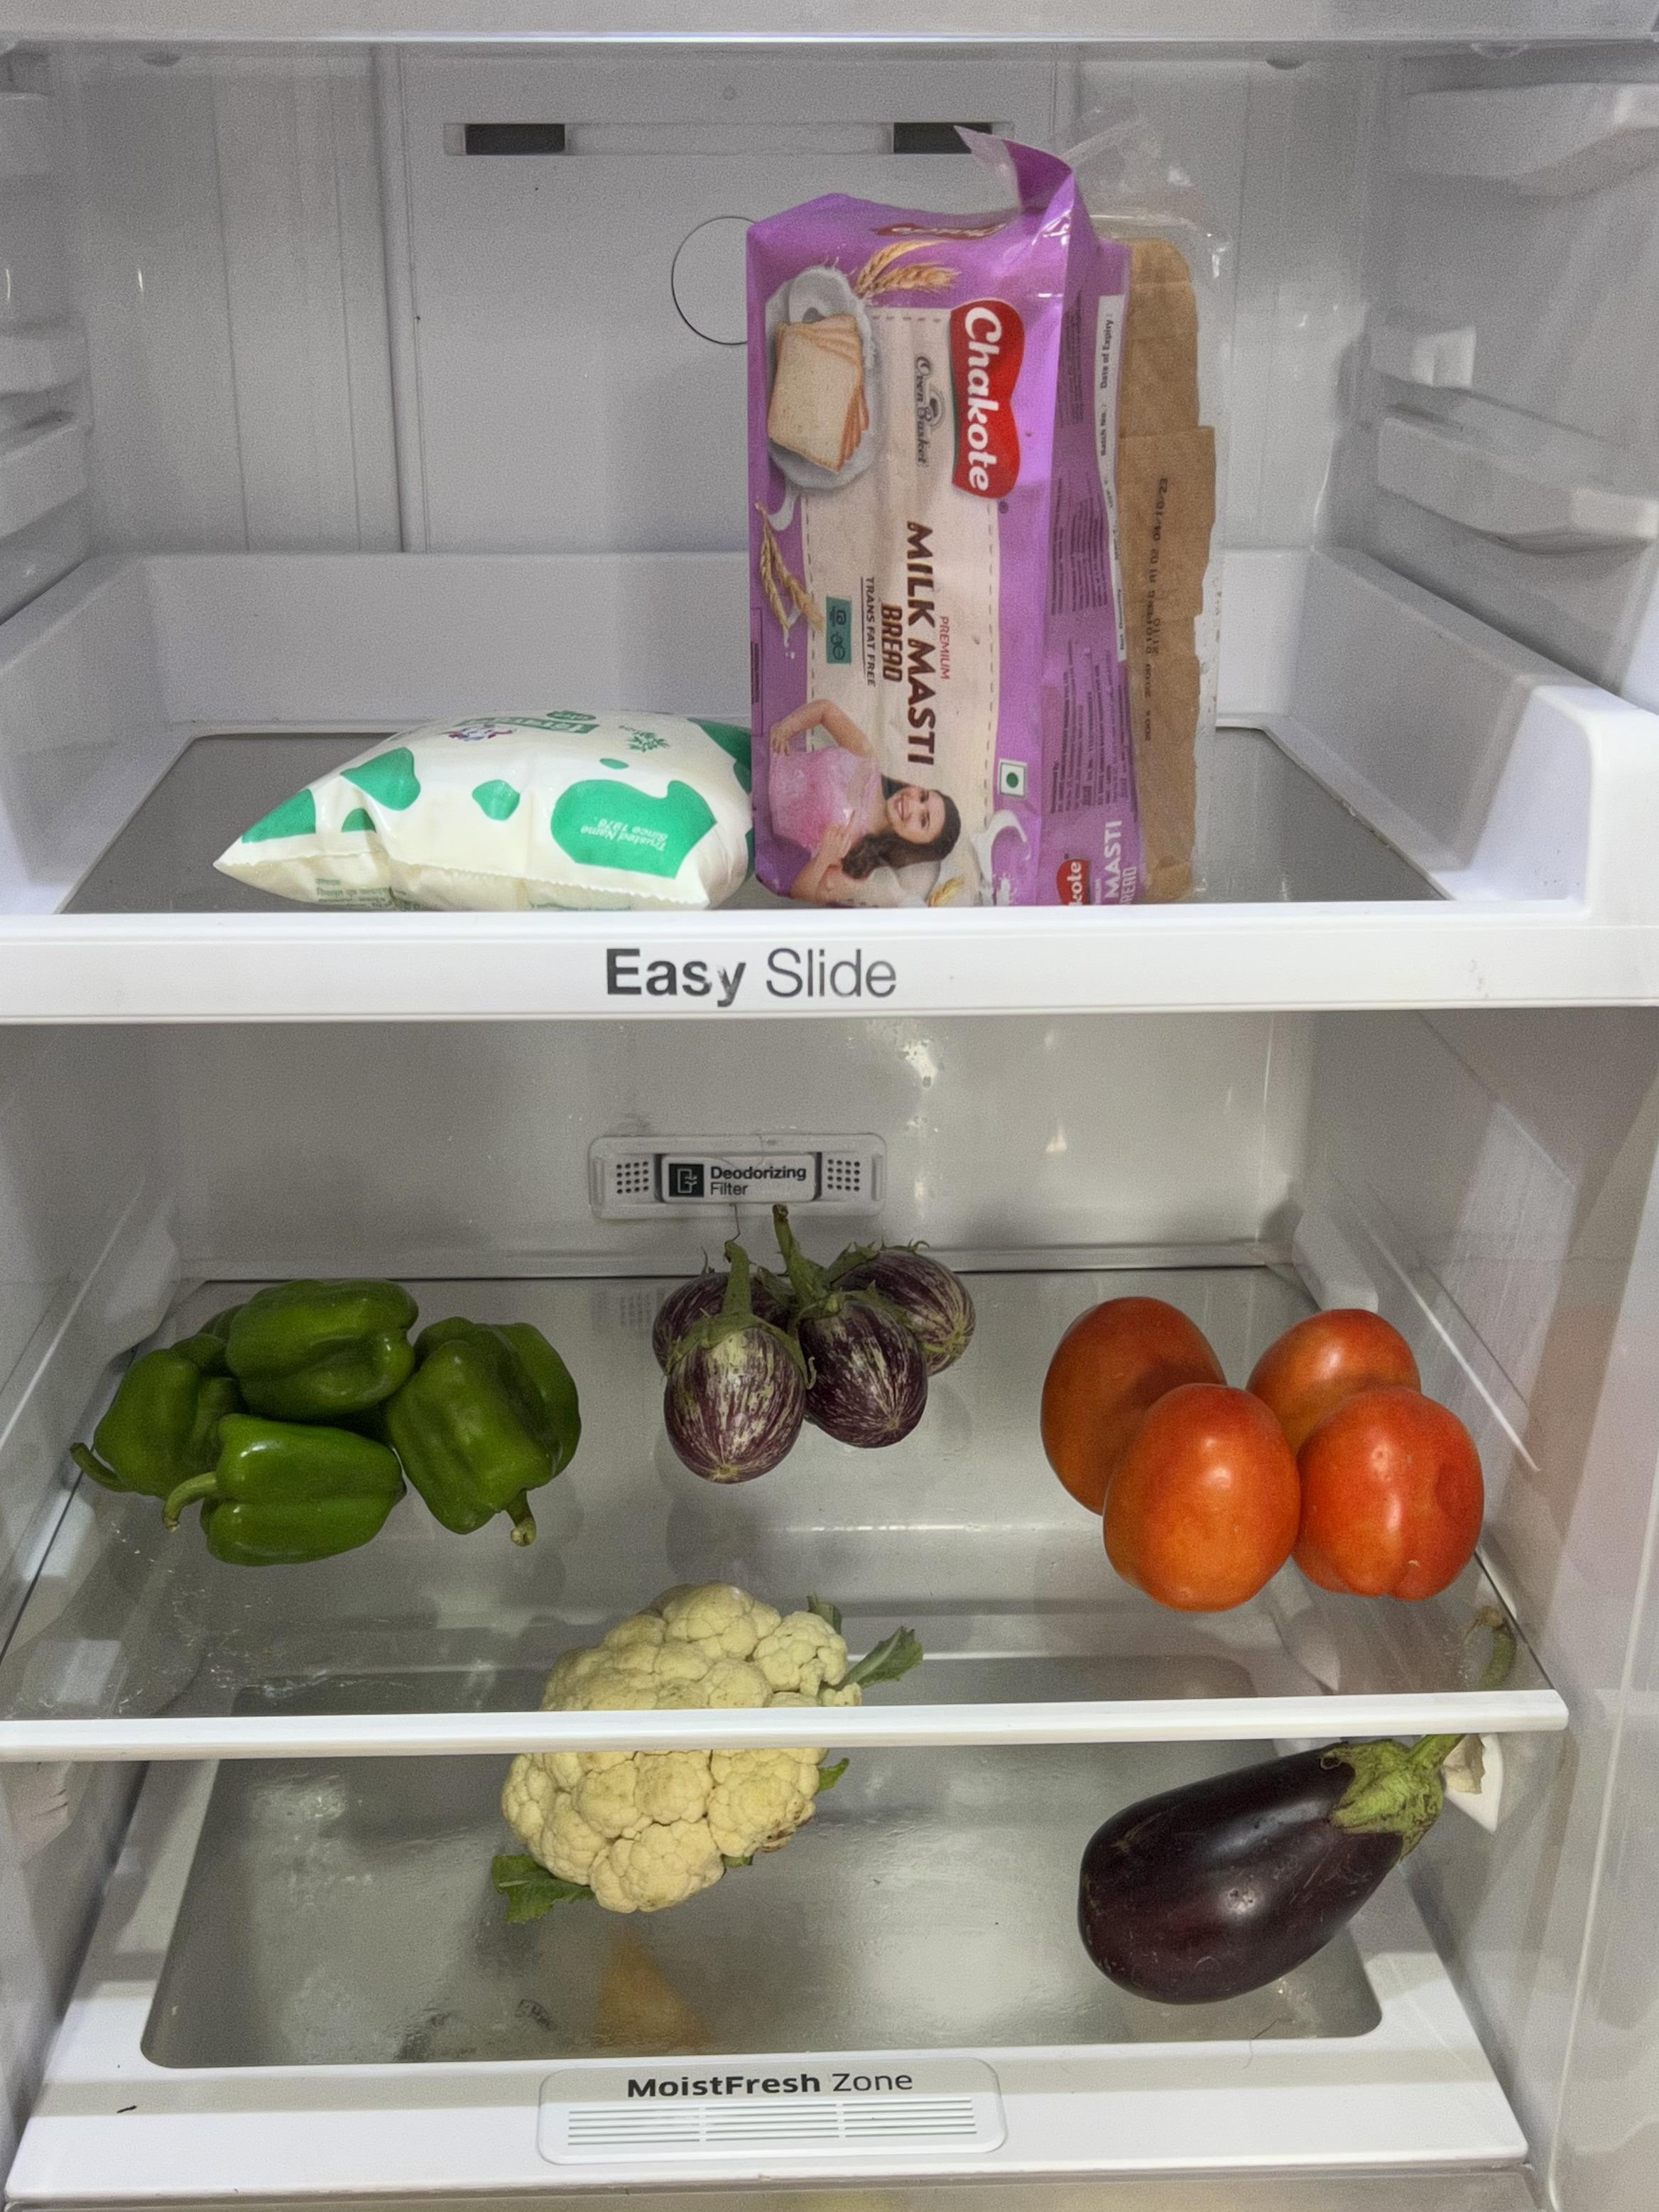bread: (739, 200, 1222, 898)
bringal: (1070, 1731, 1457, 2010), (640, 1218, 981, 1487)
capsicum: (68, 1279, 582, 1564)
cauliflower: (491, 1584, 878, 1916)
milk: (214, 702, 742, 901)
tomato: (1037, 1286, 1488, 1618)
